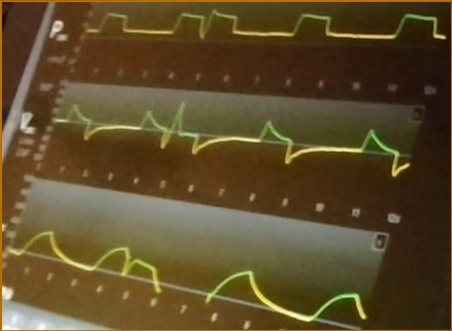Double_Triggering Flow: (58, 99, 409, 180)
Double_Triggering Volume: (14, 228, 366, 323)
